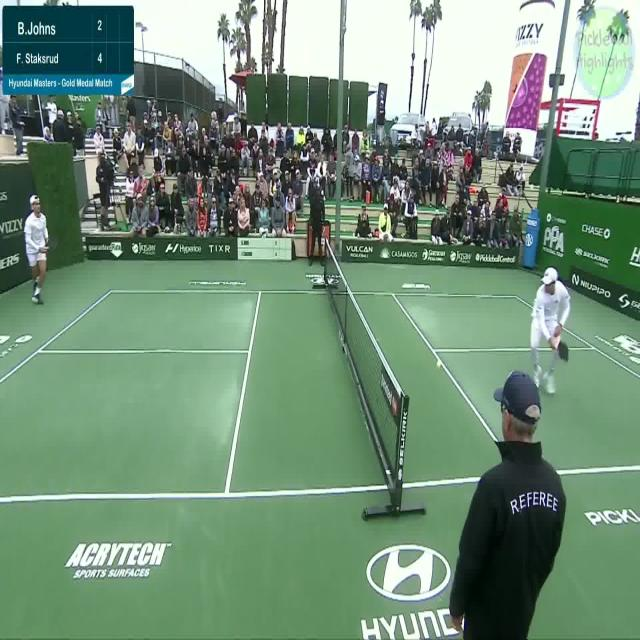ball: (434, 353, 443, 371)
